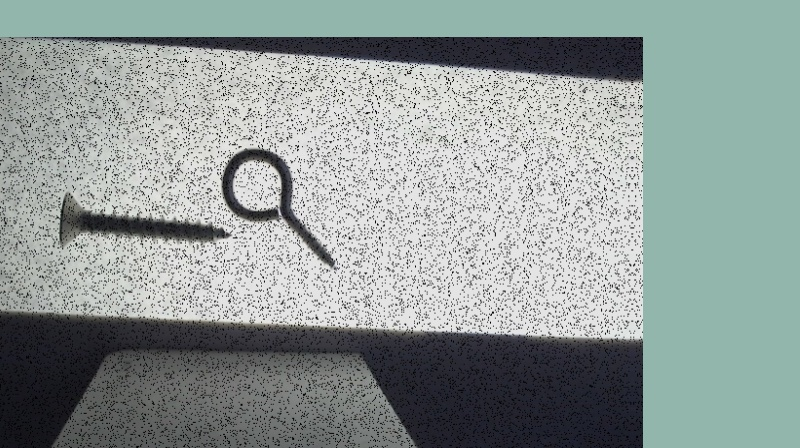O001: (220, 146, 337, 271)
S001: (57, 190, 231, 247)
